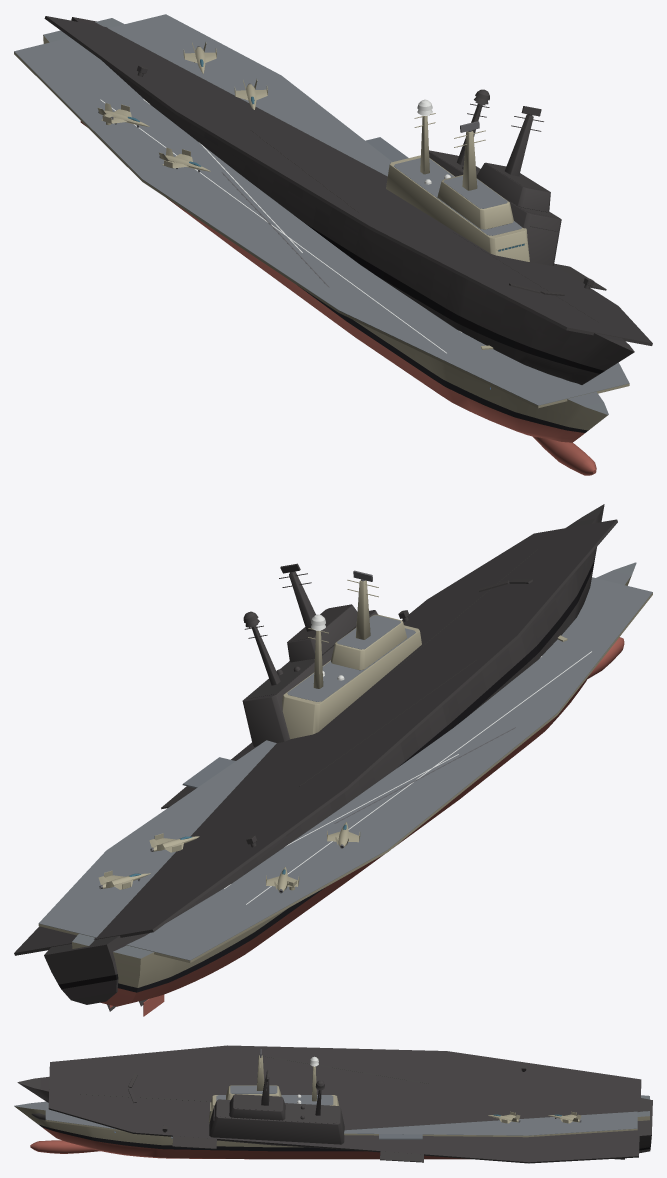
Rendered from carrier__charles_de_gaulle.glb.
3 renders of one model, top to bottom at view 1: azimuth 30°, elevation 25°; view 2: azimuth 150°, elevation 25°; view 3: azimuth 270°, elevation 25°, orthographic. The views are drawn at different scales.
Visible parts, largest first — view 1: Hull_Mesh, Wreck; view 2: Wreck, Hull_Mesh; view 3: Wreck, Hull_Mesh, DeckPlane0_Mesh, DeckPlane1_Mesh.
Boxes of the visible parts, x1,y1,x2,y2 form: Hull_Mesh: [14, 14, 629, 475]; Wreck: [44, 16, 652, 384]; Wreck: [14, 504, 617, 1011]; Hull_Mesh: [38, 562, 652, 1016]; Wreck: [17, 1045, 652, 1163]; Hull_Mesh: [14, 1055, 649, 1159]; DeckPlane0_Mesh: [548, 1111, 581, 1123]; DeckPlane1_Mesh: [488, 1111, 520, 1123].
Size of what is drawn, in the model's own units: 75.7 by 58.12 by 274.
